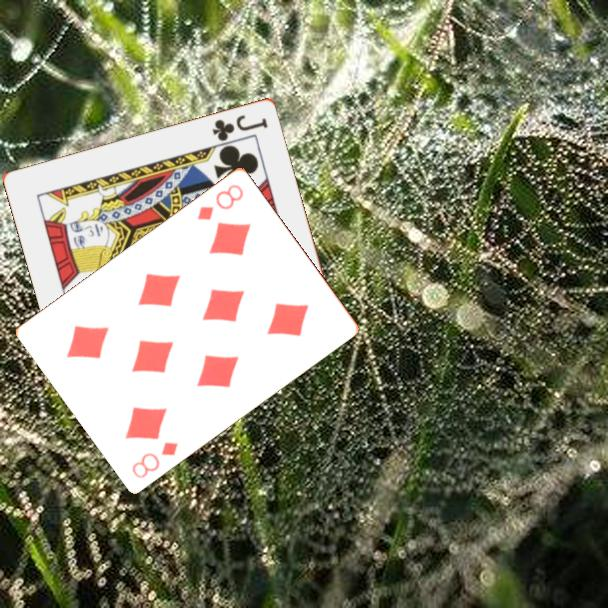c11: (209, 111, 271, 144)
d08: (193, 180, 247, 223), (128, 438, 181, 481)
